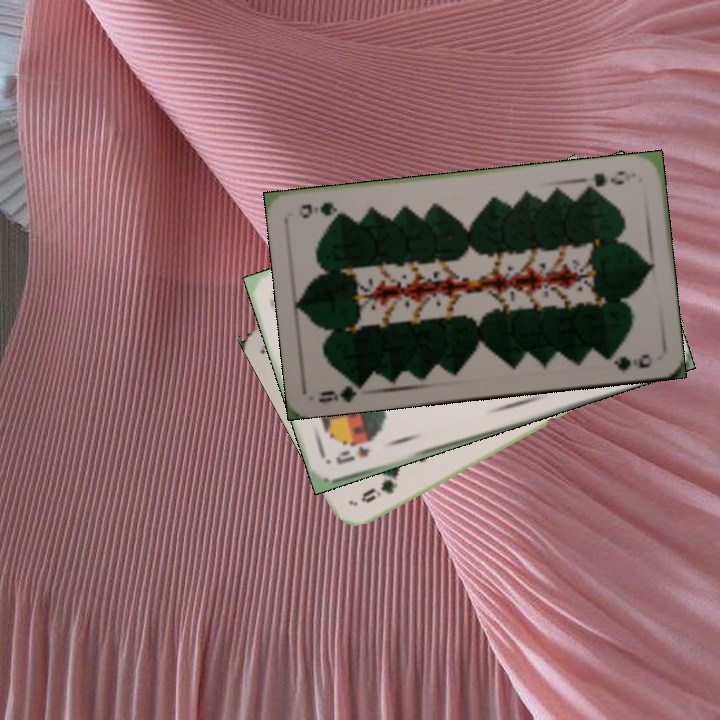G9: (357, 470, 402, 506), (315, 377, 368, 406), (580, 166, 634, 193)
SO: (331, 442, 373, 467)
